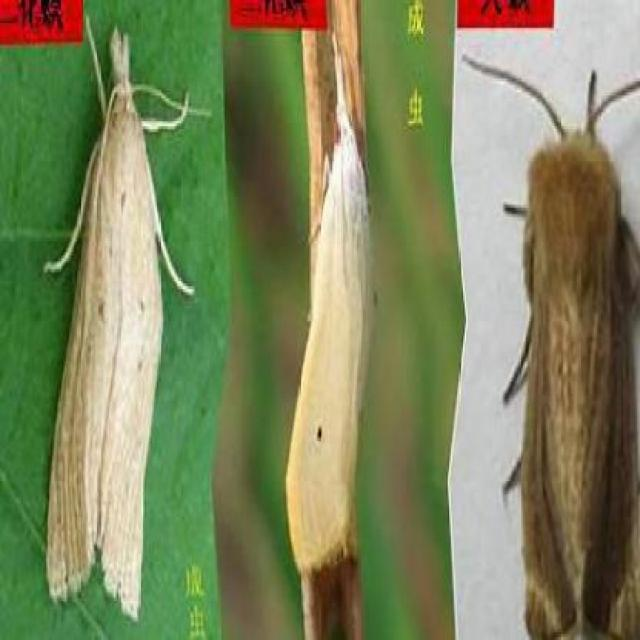stem-borer: (38, 20, 213, 624), (466, 51, 640, 640), (284, 37, 376, 575)
